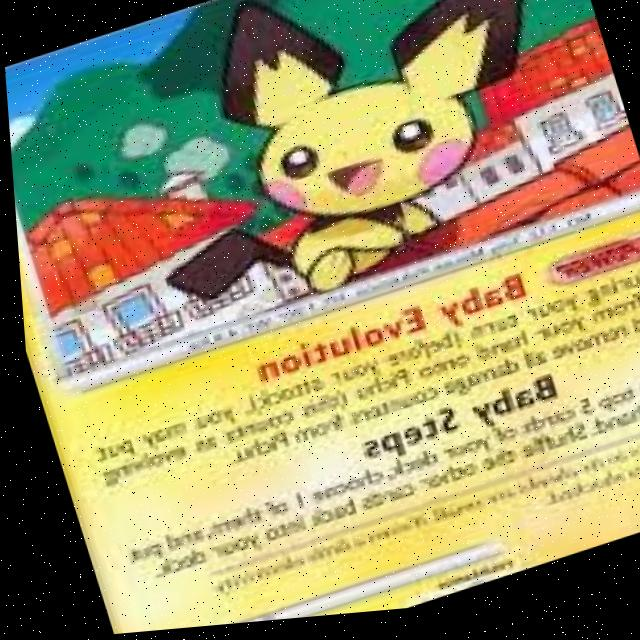pichu: (64, 0, 628, 386)
